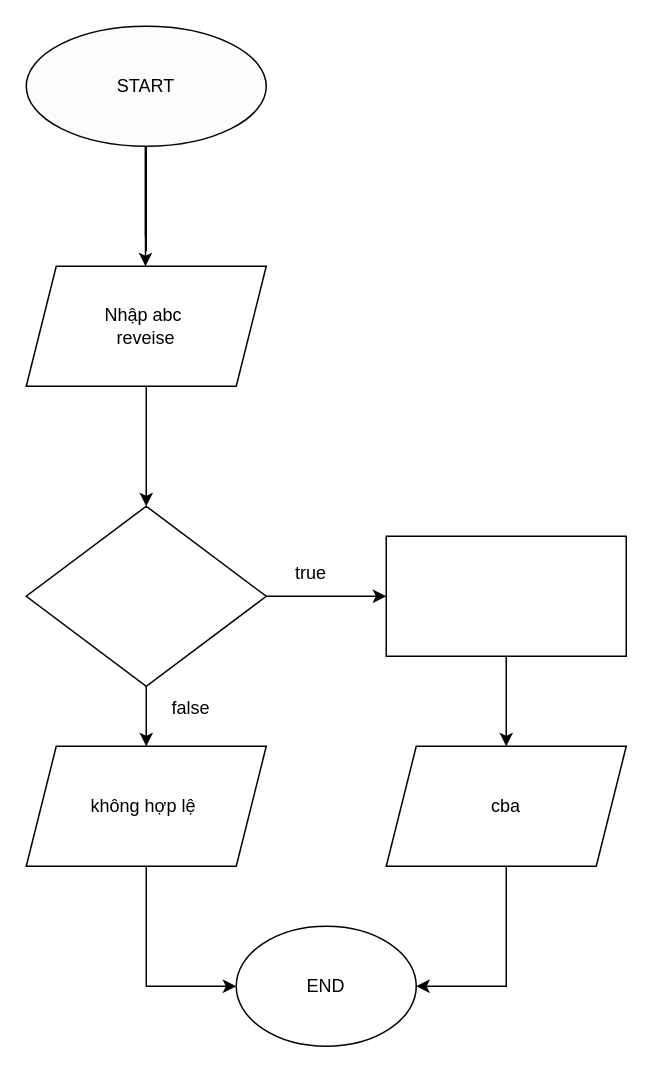
The diagram is 653 pixels wide and 1073 high, and some of its shapes have lost their labels. Here are the shapes that lost their labels. From the top down, the centre of each, then its label:
point (145, 595): 99<abc<1000
point (505, 595): abc = a*100+b*10+c*1 reveise c*100+b*10+a*1
